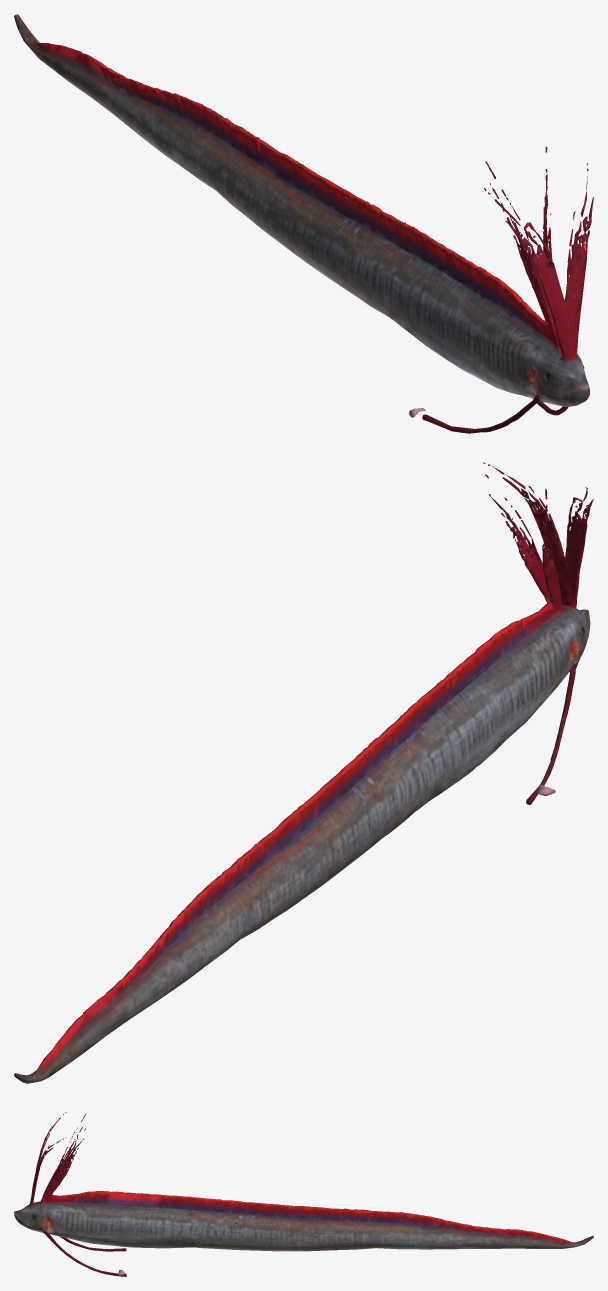
The model's file is oarfish.glb.
The picture shows the model from 3 angles, top to bottom: view 1: azimuth 30°, elevation 25°; view 2: azimuth 150°, elevation 25°; view 3: azimuth 270°, elevation 25°; orthographic projection. The views are drawn at different scales.
Visible parts, largest first — view 1: geometry_0; view 2: geometry_0; view 3: geometry_0.
Boxes of the visible parts, box(x1,y1,x2,y2) form: geometry_0: box(14, 14, 593, 433); geometry_0: box(14, 462, 593, 1083); geometry_0: box(14, 1112, 593, 1276).
Bounding box in the file's own units: 0.1466 × 0.2732 × 1.
Materials: 1 (1 with a texture image).
